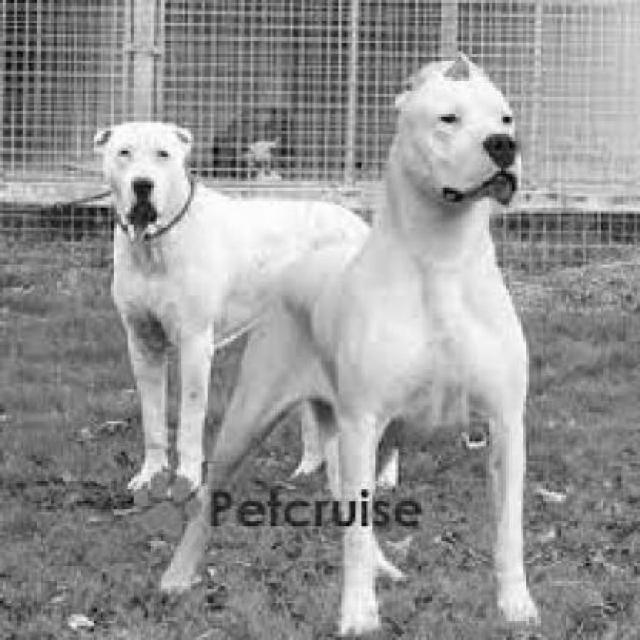Dog: (168, 62, 575, 638), (98, 84, 377, 496)
